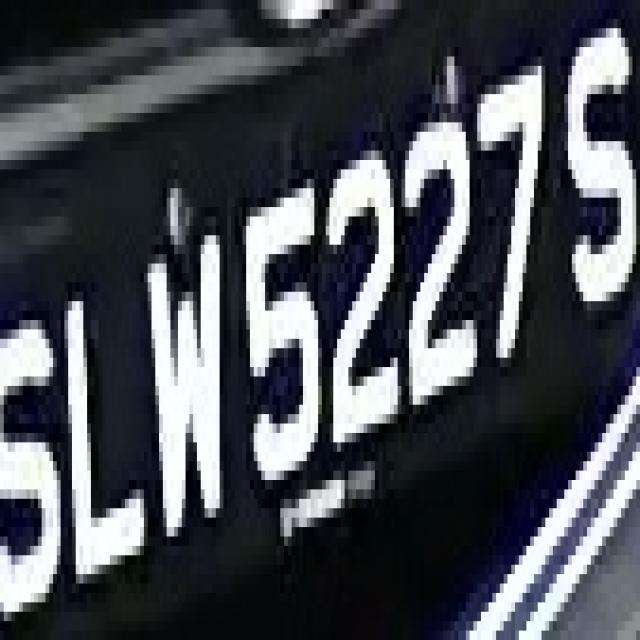2: (386, 104, 485, 452), (311, 142, 405, 490)
5: (227, 170, 322, 508)
7: (458, 38, 553, 376)
L: (49, 263, 148, 593)
S: (549, 0, 640, 329), (8, 273, 60, 602)
W: (140, 207, 239, 584)
